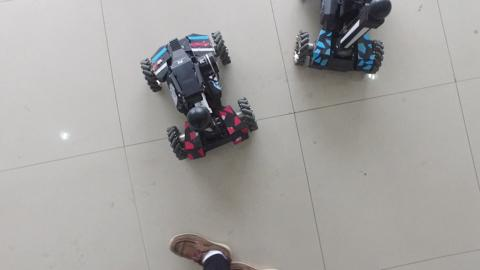chariot: (132, 29, 263, 168), (289, 1, 391, 77)
